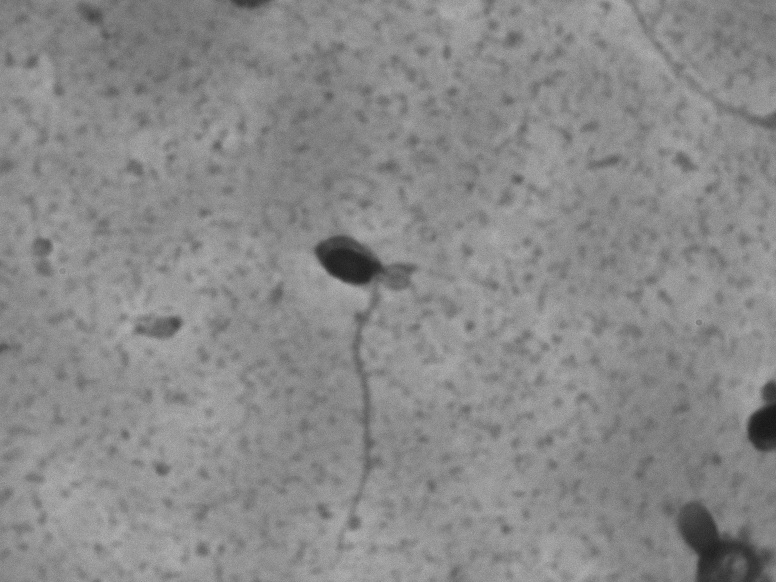Abnormal: (286, 208, 437, 565)
